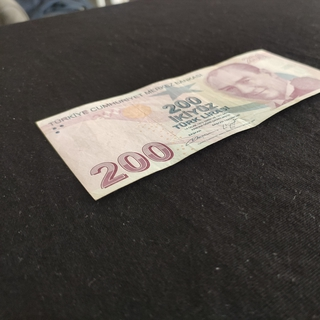200TLFront: (34, 48, 320, 201)
